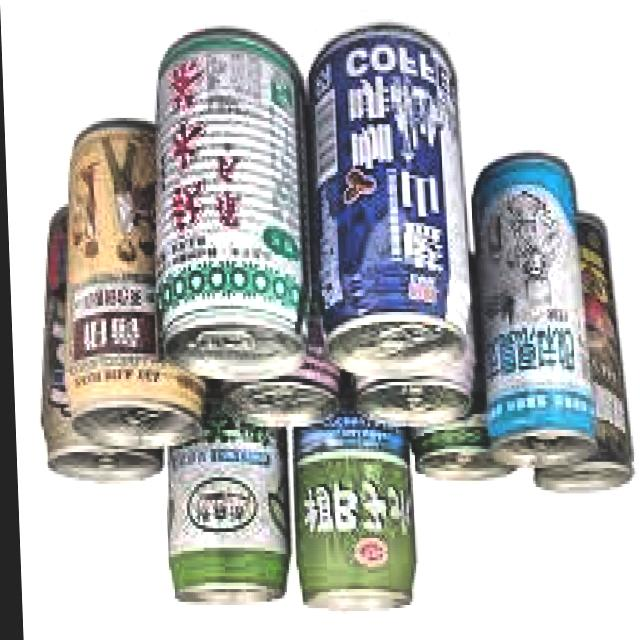can: (141, 19, 320, 389), (302, 20, 476, 378), (55, 109, 218, 451), (26, 196, 172, 500), (467, 144, 594, 477), (282, 374, 429, 619), (522, 208, 637, 505), (156, 396, 297, 618), (400, 246, 521, 490), (343, 232, 479, 434), (212, 296, 355, 444)
